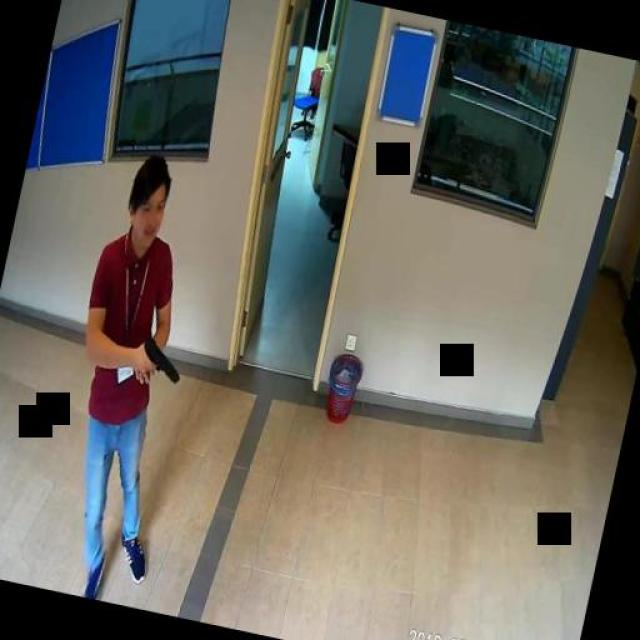gun: (135, 333, 185, 388)
